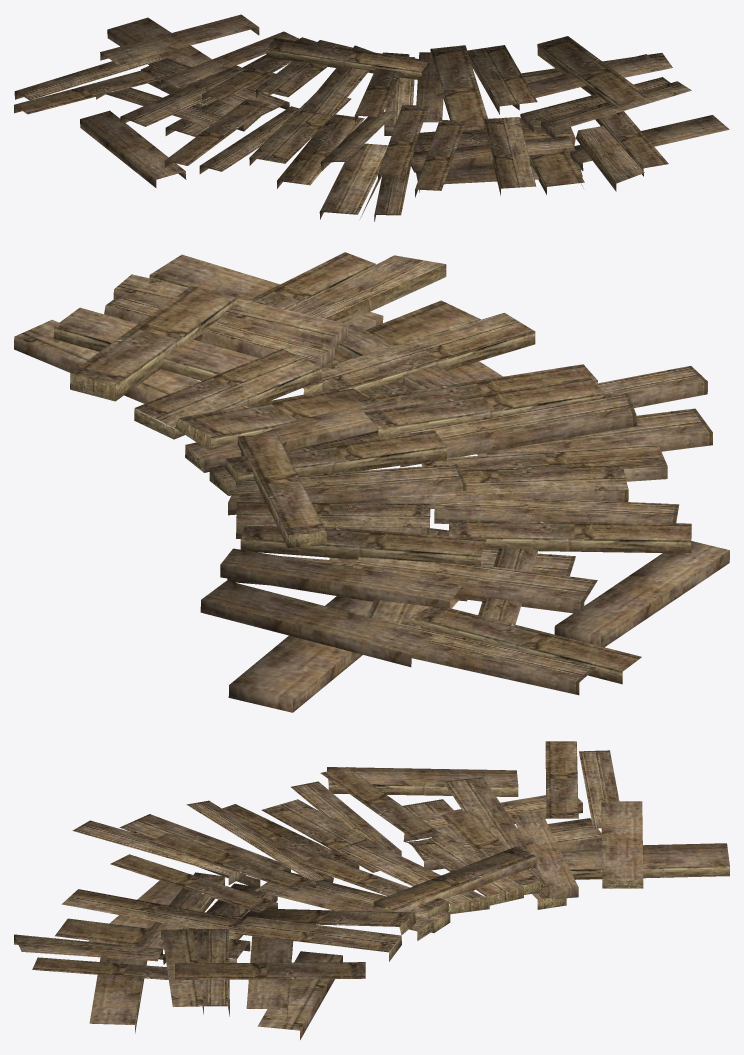
The model's file is S_Build_West047_1.FBX.
3 renders of one model, top to bottom at view 1: azimuth 30°, elevation 25°; view 2: azimuth 150°, elevation 25°; view 3: azimuth 270°, elevation 25°, orthographic. The views are drawn at different scales.
Visible parts, largest first — view 1: S_Build_West047_1; view 2: S_Build_West047_1; view 3: S_Build_West047_1.
Part boxes in pixels (box(x1,y1,x2,y2)): S_Build_West047_1: box(14, 14, 729, 221); S_Build_West047_1: box(14, 252, 729, 712); S_Build_West047_1: box(14, 741, 729, 1039).
Bounding box in the file's own units: 1055 × 1061 × 85.85.
